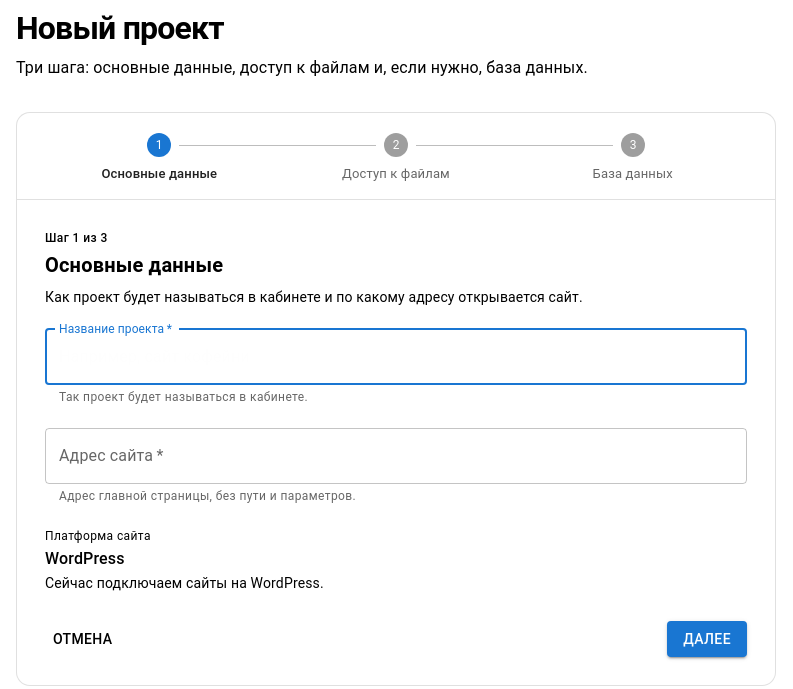
the first step › stays on the step with the text of a refusal
In the field labelled "Название проекта *": (396, 357) x1=45 y1=329 x2=747 y2=385, type "Кофейня"
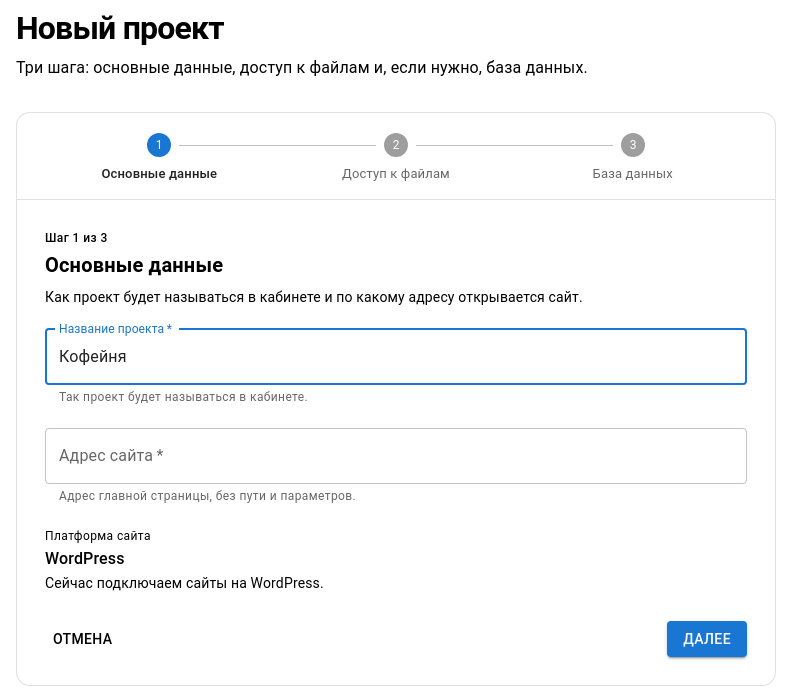
In the field labelled "Адрес сайта *": (396, 456) x1=45 y1=428 x2=747 y2=484, type "example.ru"
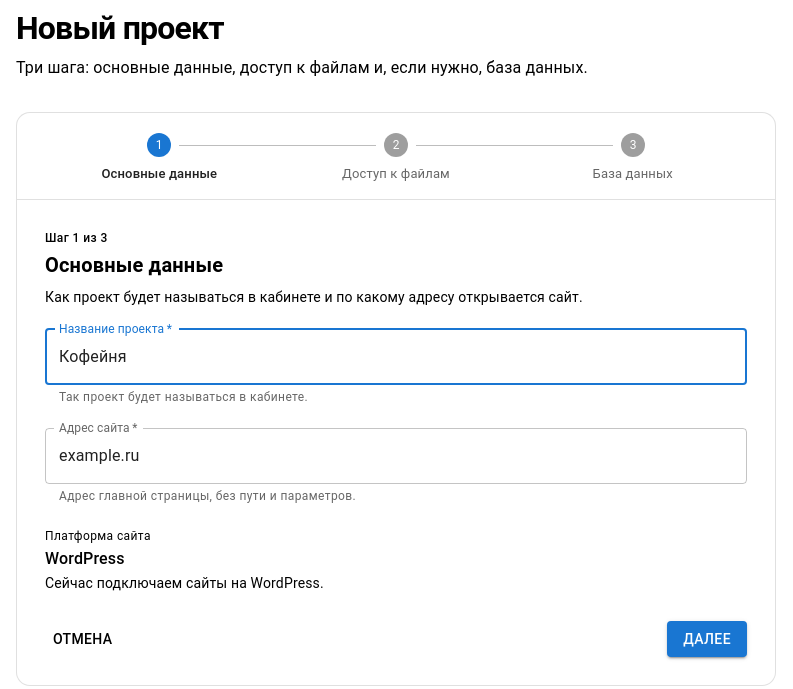
Click the button "Далее": (707, 639) x1=667 y1=621 x2=747 y2=657
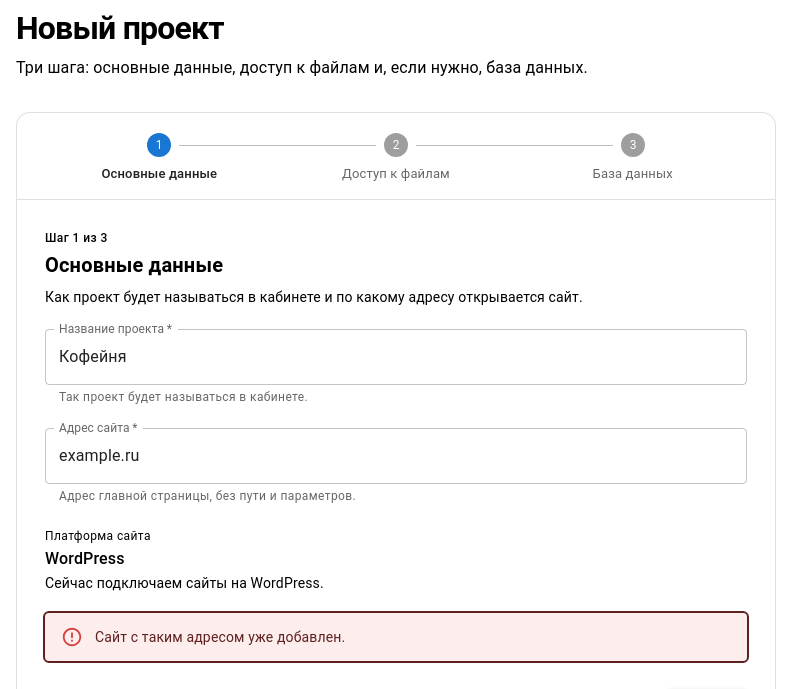
Expected: the heading "Основные данные" is shown, x1=45 y1=254 x2=223 y2=278
Expected: the message "Сайт с таким адресом уже добавлен." is shown, x1=45 y1=613 x2=747 y2=661
